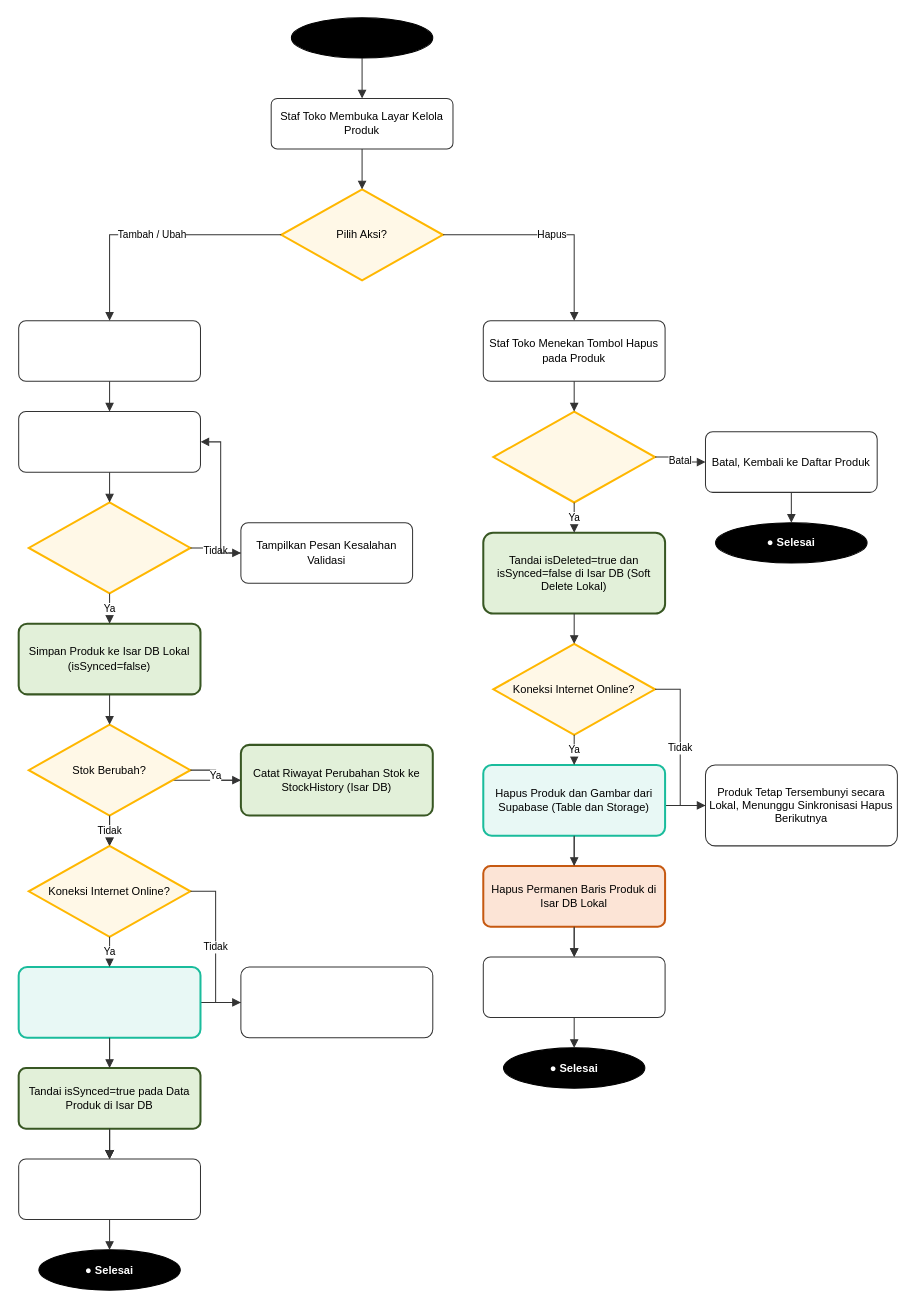
The diagram is 915 pixels wide and 1308 high, and some of its shapes have lost their labels. Each missing label, with the centre of its shape:
"Buka Form Produk (Data Baru / Edit Data Existing)" belongs at [109,350].
"Data Tetap Tersimpan Lokal, Menunggu Sinkronisasi Otomatis oleh SyncNotifier" belongs at [336,1002].
"Input Nama, Harga, Stok, Kategori, dan Gambar Produk" belongs at [109,441].
"Input Valid?" belongs at [109,547].
"Konfirmasi Hapus?" belongs at [573,456].
"Tampilkan Notifikasi Produk Berhasil Dihapus" belongs at [573,987].
"Tampilkan Notifikasi Produk Berhasil Disimpan" belongs at [109,1189].
"Unggah/Perbarui Data Produk ke Supabase (Insert/Update)" belongs at [109,1002].
"● Mulai" belongs at [361,37].
